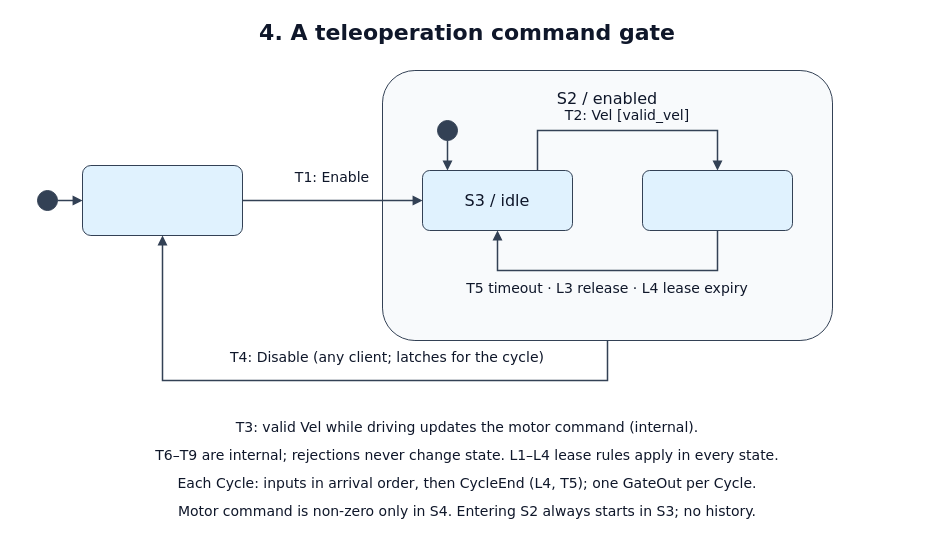
This 934x540 diagram has some shape labels left out. The shapes that lost their labels are listed below. From the top down, each one's centre as x and y in pixels, then its label:
point 162,200: S1 / disabled
point 717,200: S4 / driving
